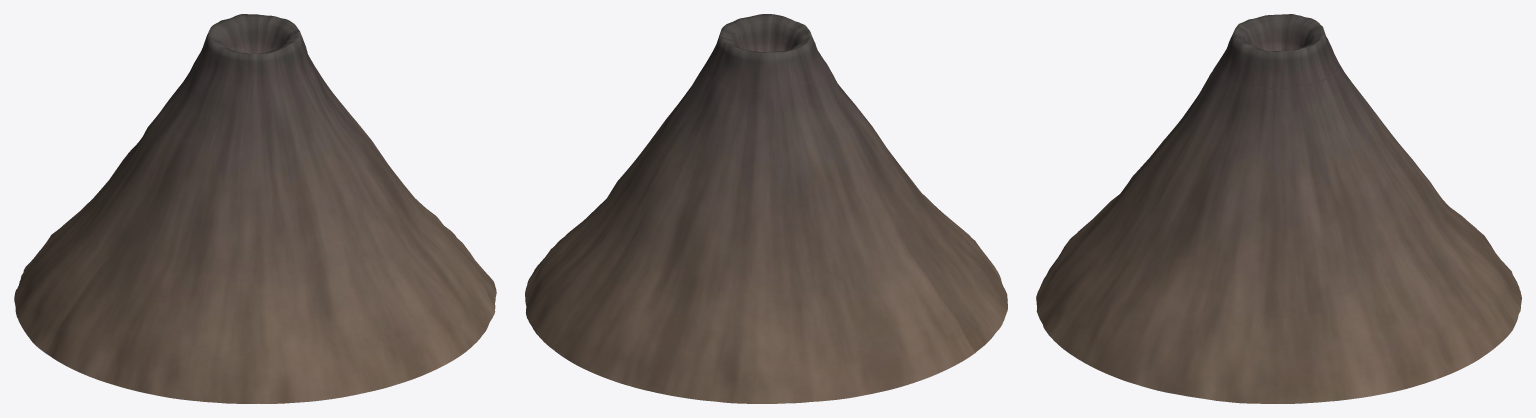
Rendered from volcano.glb.
The picture shows the model from 3 angles, left to right: view 1: azimuth 30°, elevation 25°; view 2: azimuth 150°, elevation 25°; view 3: azimuth 270°, elevation 25°; orthographic projection.
Parts seen in each view (by area): view 1: Volcano; view 2: Volcano; view 3: Volcano.
Boxes of the visible parts, x1,y1,x2,y2 form: Volcano: (14, 14, 496, 403); Volcano: (525, 14, 1007, 403); Volcano: (1036, 14, 1521, 403).
Bounding box in the file's own units: 0.361 × 0.2224 × 0.3604.
1 material, 1 textured.
